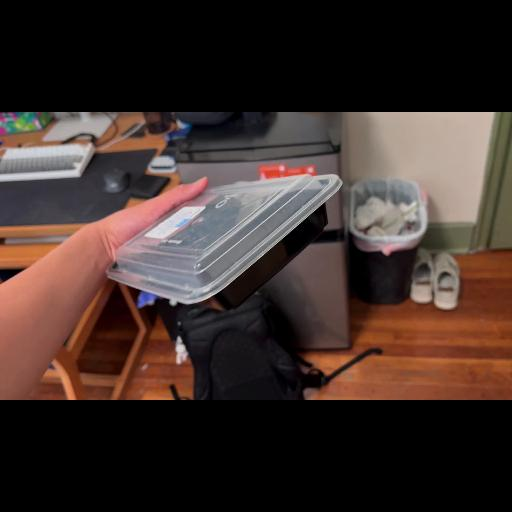rigid_plastic_container: (109, 172, 339, 304)
